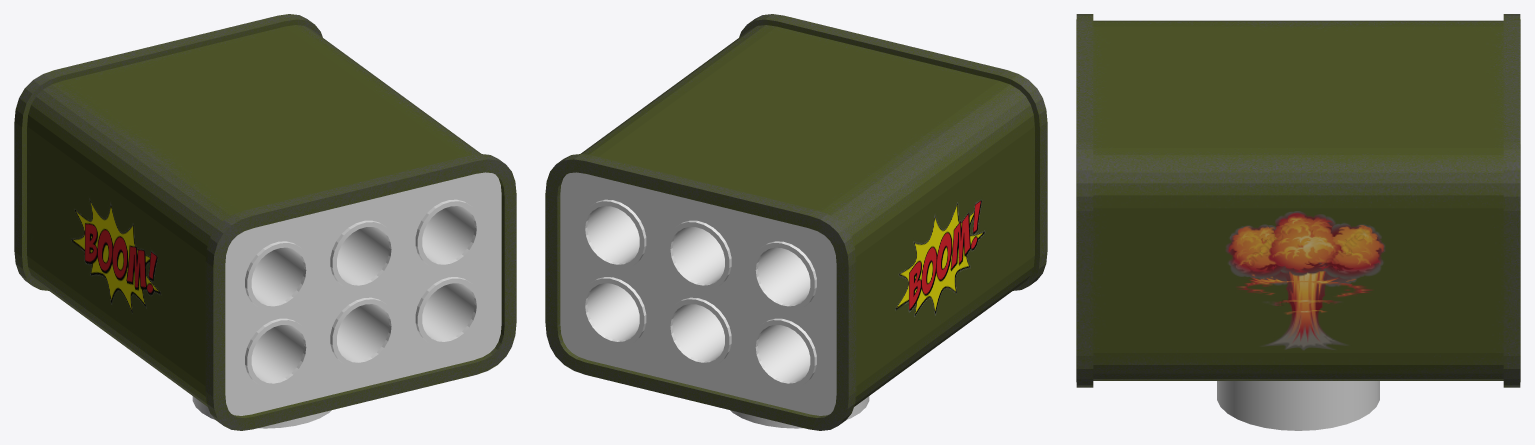
File: RakettHolderParts.fbx
3 renders of one model, left to right at view 1: azimuth 30°, elevation 25°; view 2: azimuth 150°, elevation 25°; view 3: azimuth 270°, elevation 25°, orthographic. The views are drawn at different scales.
Parts seen in each view (by area): view 1: RakettHolder001, RakettHolder, RakettStøtte; view 2: RakettHolder001, RakettHolder, RakettStøtte; view 3: RakettHolder001, RakettStøtte.
Boxes of the visible parts, x1,y1,x2,y2 form: RakettHolder001: (14,14,516,430); RakettHolder: (225,172,501,415); RakettStøtte: (192,396,331,428); RakettHolder001: (545,14,1047,430); RakettHolder: (560,172,836,415); RakettStøtte: (730,396,869,428); RakettHolder001: (1076,14,1520,387); RakettStøtte: (1217,381,1379,430).
Bounding box in the file's own units: 66.91 × 59.45 × 76.04.
1 material, 1 textured.
